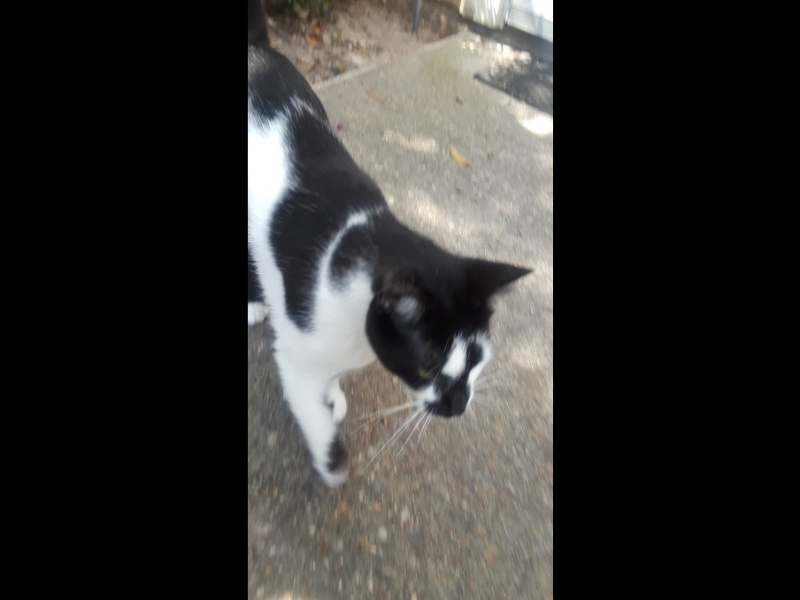cat: (250, 30, 535, 503)
